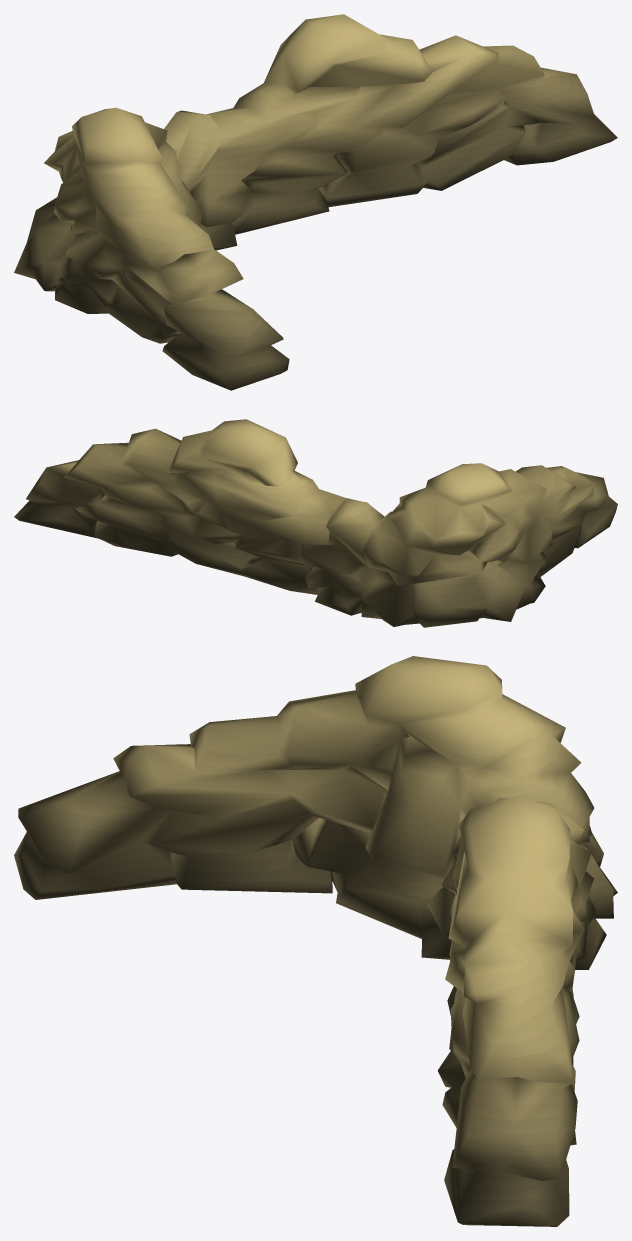
3 views of the same model, one above another, from view 1: azimuth 30°, elevation 25°; view 2: azimuth 150°, elevation 25°; view 3: azimuth 270°, elevation 25° (orthographic). The views are drawn at different scales.
Parts seen in each view (by area): view 1: SB8.col; view 2: SB8.col; view 3: SB8.col.
Part boxes in pixels (<box>): SB8.col: <box>14,14,617,390</box>; SB8.col: <box>14,419,617,627</box>; SB8.col: <box>14,656,617,1226</box>.
Size of the model in its own units: 4.73 by 1.33 by 2.99.
1 material, 1 textured.
